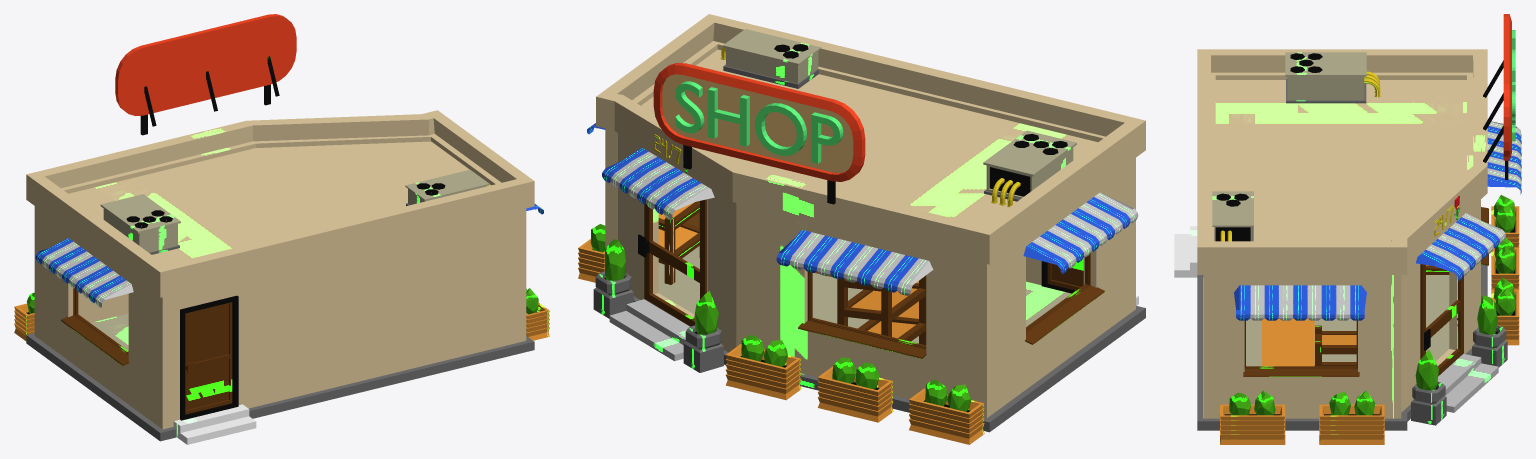
Rendered from shop-flower-a_night.glb.
3 views of the same model, side by side, from view 1: azimuth 30°, elevation 25°; view 2: azimuth 150°, elevation 25°; view 3: azimuth 270°, elevation 25° (orthographic). The views are drawn at different scales.
Visible parts, largest first — view 1: object 1, object 3, object 101, sign_2, object 2, object 248, object 108, object 249, object 250, object 103, object 52, sign_0 (+1 smaller); view 2: object 1, object 3, object 101, sign_1, sign_2, sign_letters, object 4, object 103, object 2, object 108, object 11, object 42 (+25 smaller); view 3: object 101, object 1, object 3, object 108, object 4, object 181, object 2, object 42, object 11, object 103, sign_2, object 63 (+44 smaller).
Part boxes in pixels (left/top/right/bottom): object 1: left=34, top=133, right=526, bottom=429; object 3: left=26, top=110, right=534, bottom=297; object 101: left=68, top=141, right=490, bottom=264; sign_2: left=115, top=14, right=296, bottom=115; object 2: left=26, top=333, right=534, bottom=441; object 248: left=185, top=302, right=232, bottom=414; object 108: left=100, top=194, right=180, bottom=252; object 249: left=180, top=295, right=238, bottom=420; object 250: left=173, top=404, right=256, bottom=444; object 103: left=405, top=169, right=489, bottom=204; object 52: left=61, top=315, right=129, bottom=365; sign_0: left=140, top=56, right=279, bottom=135; object 1: left=605, top=41, right=1135, bottom=418; object 3: left=596, top=14, right=1145, bottom=264; object 101: left=641, top=49, right=1097, bottom=225; sign_1: left=662, top=74, right=853, bottom=172; sign_2: left=653, top=62, right=865, bottom=181; sign_letters: left=675, top=81, right=843, bottom=163; object 4: left=658, top=246, right=1071, bottom=343; object 103: left=723, top=29, right=821, bottom=83; object 2: left=596, top=287, right=1145, bottom=432; object 108: left=983, top=130, right=1076, bottom=198; object 11: left=644, top=199, right=707, bottom=326; object 42: left=609, top=299, right=689, bottom=361; object 101: left=1215, top=80, right=1466, bottom=241; object 1: left=1204, top=72, right=1480, bottom=418; object 3: left=1197, top=49, right=1487, bottom=274; object 108: left=1285, top=52, right=1366, bottom=100; object 4: left=1246, top=275, right=1449, bottom=366; object 181: left=1262, top=318, right=1314, bottom=366; object 2: left=1197, top=264, right=1487, bottom=430; object 42: left=1437, top=354, right=1498, bottom=412; object 11: left=1420, top=264, right=1463, bottom=375; object 103: left=1212, top=191, right=1253, bottom=241; sign_2: left=1503, top=14, right=1511, bottom=160; object 63: left=1411, top=381, right=1446, bottom=425.
Size of the model in its own units: 6.23 by 3.62 by 4.03.
Materials: 21 (4 with a texture image).
